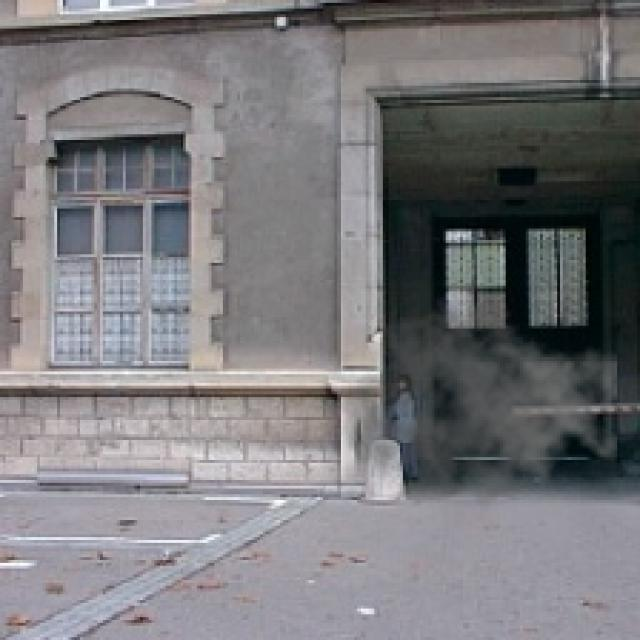smoke: (340, 294, 617, 523)
